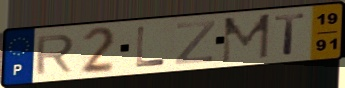2: (80, 26, 118, 77)
L: (134, 25, 168, 69)
M: (219, 12, 273, 65)
R: (33, 33, 76, 77)
T: (273, 12, 308, 57)
Z: (173, 19, 218, 67)
